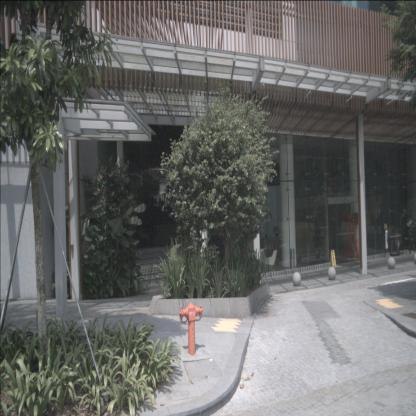cone: (330, 249, 337, 267)
